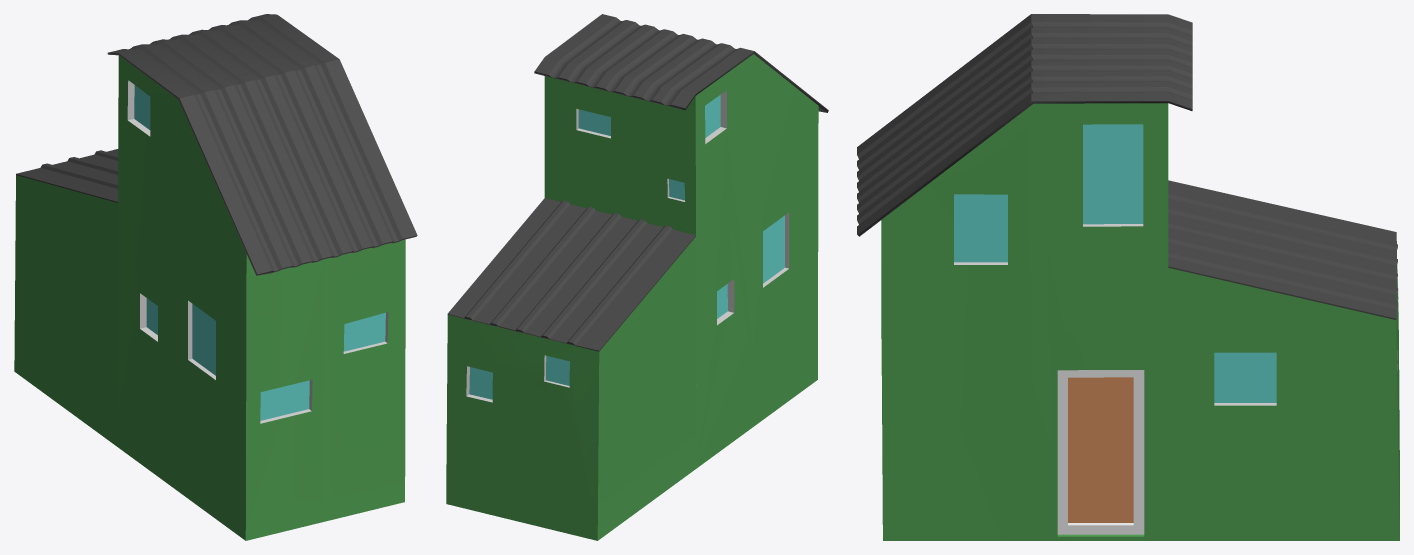
Rendered from Medium_Favelahouse.fbx.
The picture shows the model from 3 angles, left to right: view 1: azimuth 30°, elevation 25°; view 2: azimuth 150°, elevation 25°; view 3: azimuth 270°, elevation 25°; orthographic projection. The views are drawn at different scales.
Parts seen in each view (by area): view 1: Medium_Favelahouse; view 2: Medium_Favelahouse; view 3: Medium_Favelahouse.
Boxes of the visible parts, left/top/right/bottom form: Medium_Favelahouse: left=14, top=14, right=417, bottom=540; Medium_Favelahouse: left=446, top=14, right=828, bottom=540; Medium_Favelahouse: left=857, top=14, right=1399, bottom=540.
Size of the model in its own units: 670 by 1574 by 1759.
